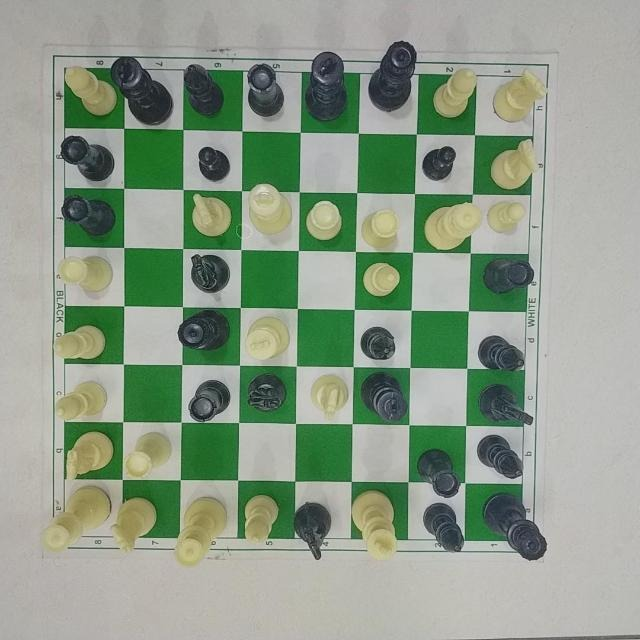black-bishop: (182, 57, 228, 122), (474, 324, 530, 373), (422, 501, 468, 557), (477, 433, 526, 483), (358, 319, 401, 361)
black-king: (111, 51, 175, 127), (301, 42, 347, 125), (363, 362, 405, 423)
black-knight: (474, 376, 536, 431), (291, 494, 337, 562), (244, 371, 288, 417), (186, 251, 231, 295)
black-pawn: (419, 139, 464, 182), (194, 143, 237, 185)
black-queen: (482, 489, 551, 565), (365, 35, 419, 117), (173, 304, 231, 353)
black-rook: (55, 134, 119, 182), (414, 442, 461, 506), (56, 193, 118, 238), (242, 58, 286, 120), (483, 255, 541, 302), (190, 374, 234, 422)
white-bishop: (428, 59, 482, 123), (62, 64, 117, 126), (49, 317, 108, 365), (53, 376, 111, 422), (241, 489, 287, 544), (360, 254, 406, 298)
white-king: (350, 487, 400, 560), (241, 181, 294, 237), (243, 310, 293, 363)
white-knight: (109, 489, 164, 555), (489, 66, 547, 127), (487, 135, 542, 190), (62, 427, 116, 479), (188, 193, 236, 243), (312, 370, 352, 422)
white-pawn: (488, 196, 528, 240)
white-queen: (41, 479, 111, 552), (170, 492, 228, 570), (422, 195, 483, 257)
white-rook: (57, 250, 118, 298), (122, 428, 174, 476), (304, 195, 344, 247), (360, 203, 400, 251)
